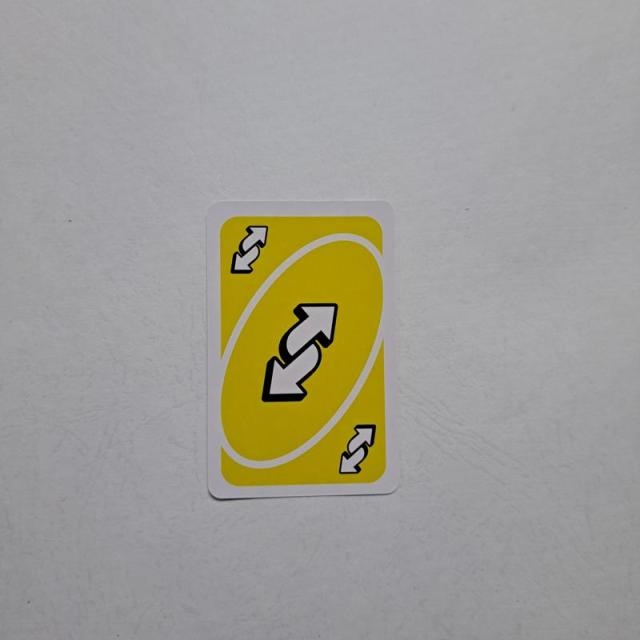Reverse: (227, 218, 273, 280)
Yellow_Card: (212, 206, 395, 493)
